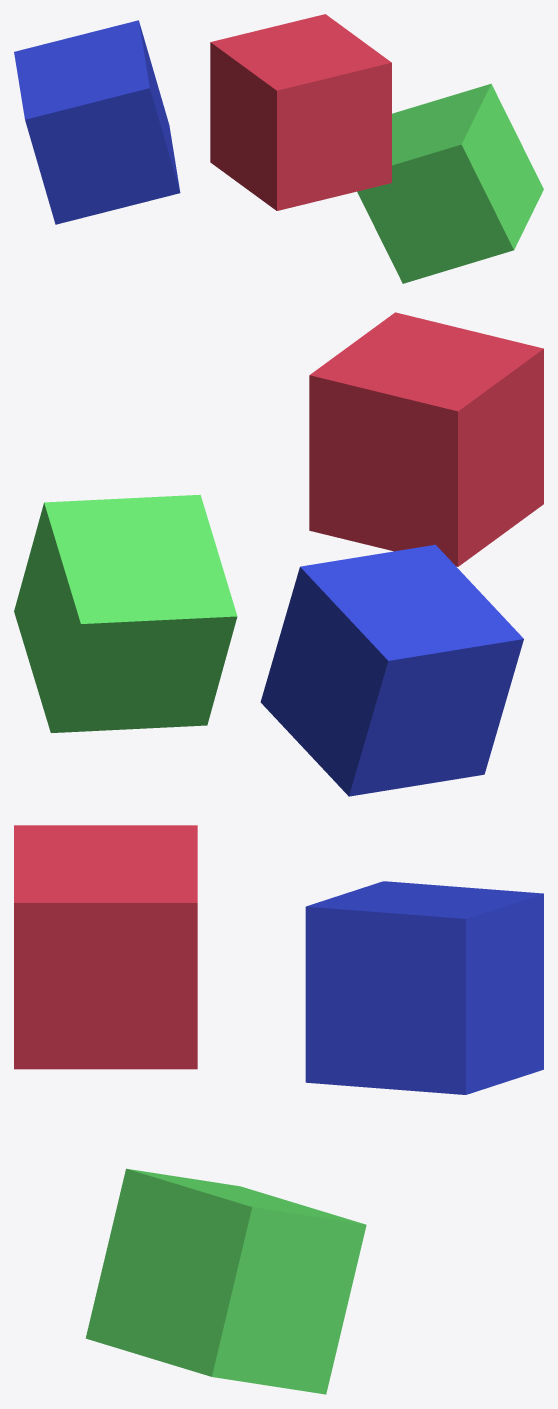
The model's file is Cubes.glb.
The picture shows the model from 3 angles, top to bottom: view 1: azimuth 30°, elevation 25°; view 2: azimuth 150°, elevation 25°; view 3: azimuth 270°, elevation 25°; orthographic projection. The views are drawn at different scales.
Visible parts, largest first — view 1: Cube.001, Cube.002, Cube.003; view 2: Cube.001, Cube.002, Cube.003; view 3: Cube.002, Cube.003, Cube.001.
Part boxes in pixels (box(x1,y1,x2,y2)): Cube.001: box(210, 14, 391, 210); Cube.002: box(14, 20, 180, 224); Cube.003: box(357, 83, 543, 283); Cube.001: box(309, 312, 543, 566); Cube.002: box(260, 544, 523, 796); Cube.003: box(14, 494, 237, 732); Cube.002: box(305, 881, 543, 1094); Cube.003: box(85, 1168, 366, 1394); Cube.001: box(14, 825, 197, 1069).
Bounding box in the file's own units: 9.13 × 5.53 × 6.63.
